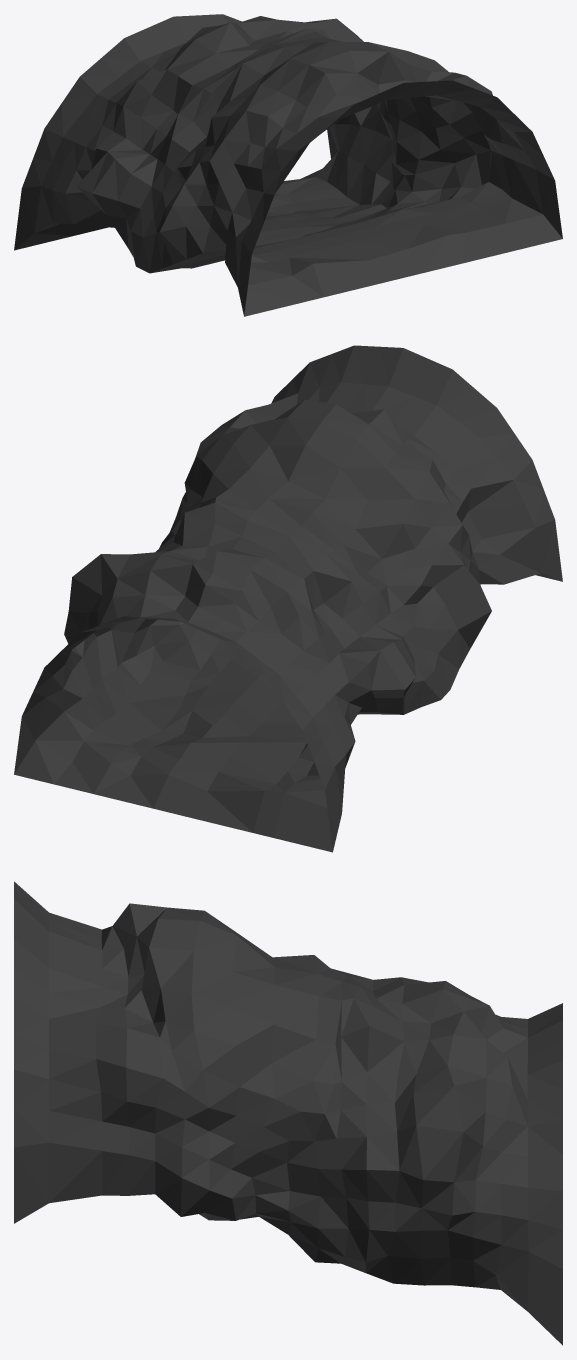
Rendered from Cave_6A.fbx.
The picture shows the model from 3 angles, top to bottom: view 1: azimuth 30°, elevation 25°; view 2: azimuth 150°, elevation 25°; view 3: azimuth 270°, elevation 25°; orthographic projection. The views are drawn at different scales.
Visible parts, largest first — view 1: pCylinder11; view 2: pCylinder11; view 3: pCylinder11.
Boxes of the visible parts, x1,y1,x2,y2 form: pCylinder11: (14, 14, 562, 316); pCylinder11: (14, 345, 562, 852); pCylinder11: (14, 881, 562, 1345).
Bounding box in the file's own units: 8.43 × 7.36 × 10.32.
